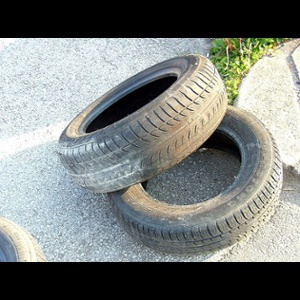tire: (109, 104, 284, 257), (56, 52, 228, 194)
